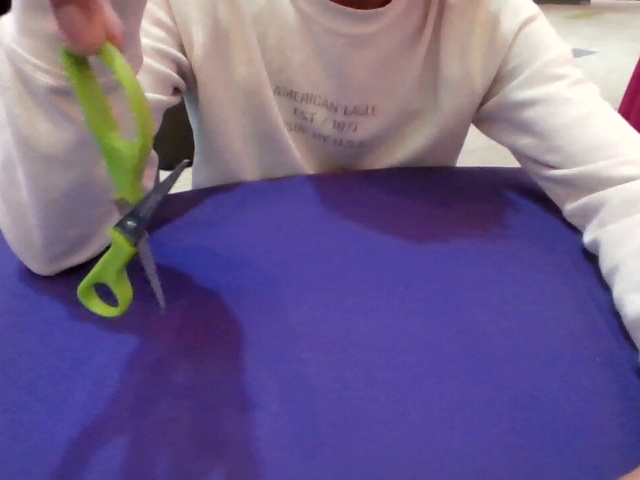tijeras: (75, 160, 194, 320)
